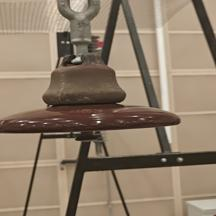insulator: (0, 54, 186, 145)
